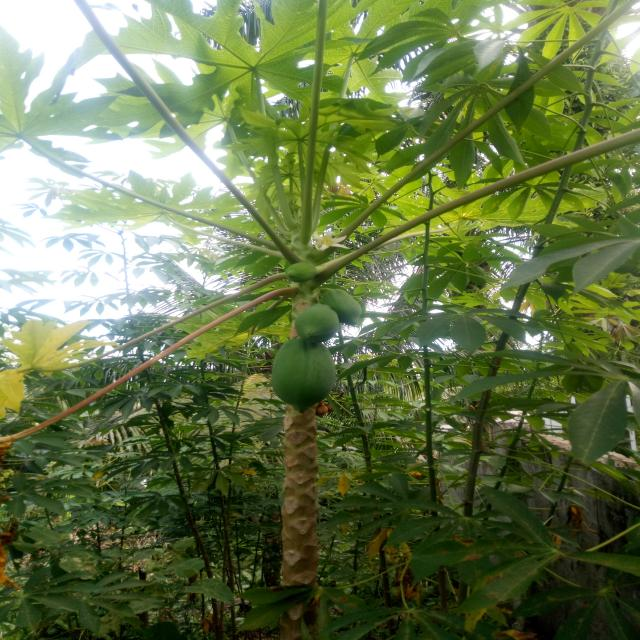Pepaya unrippen: (264, 336, 341, 414), (296, 304, 339, 343), (332, 288, 368, 327)
